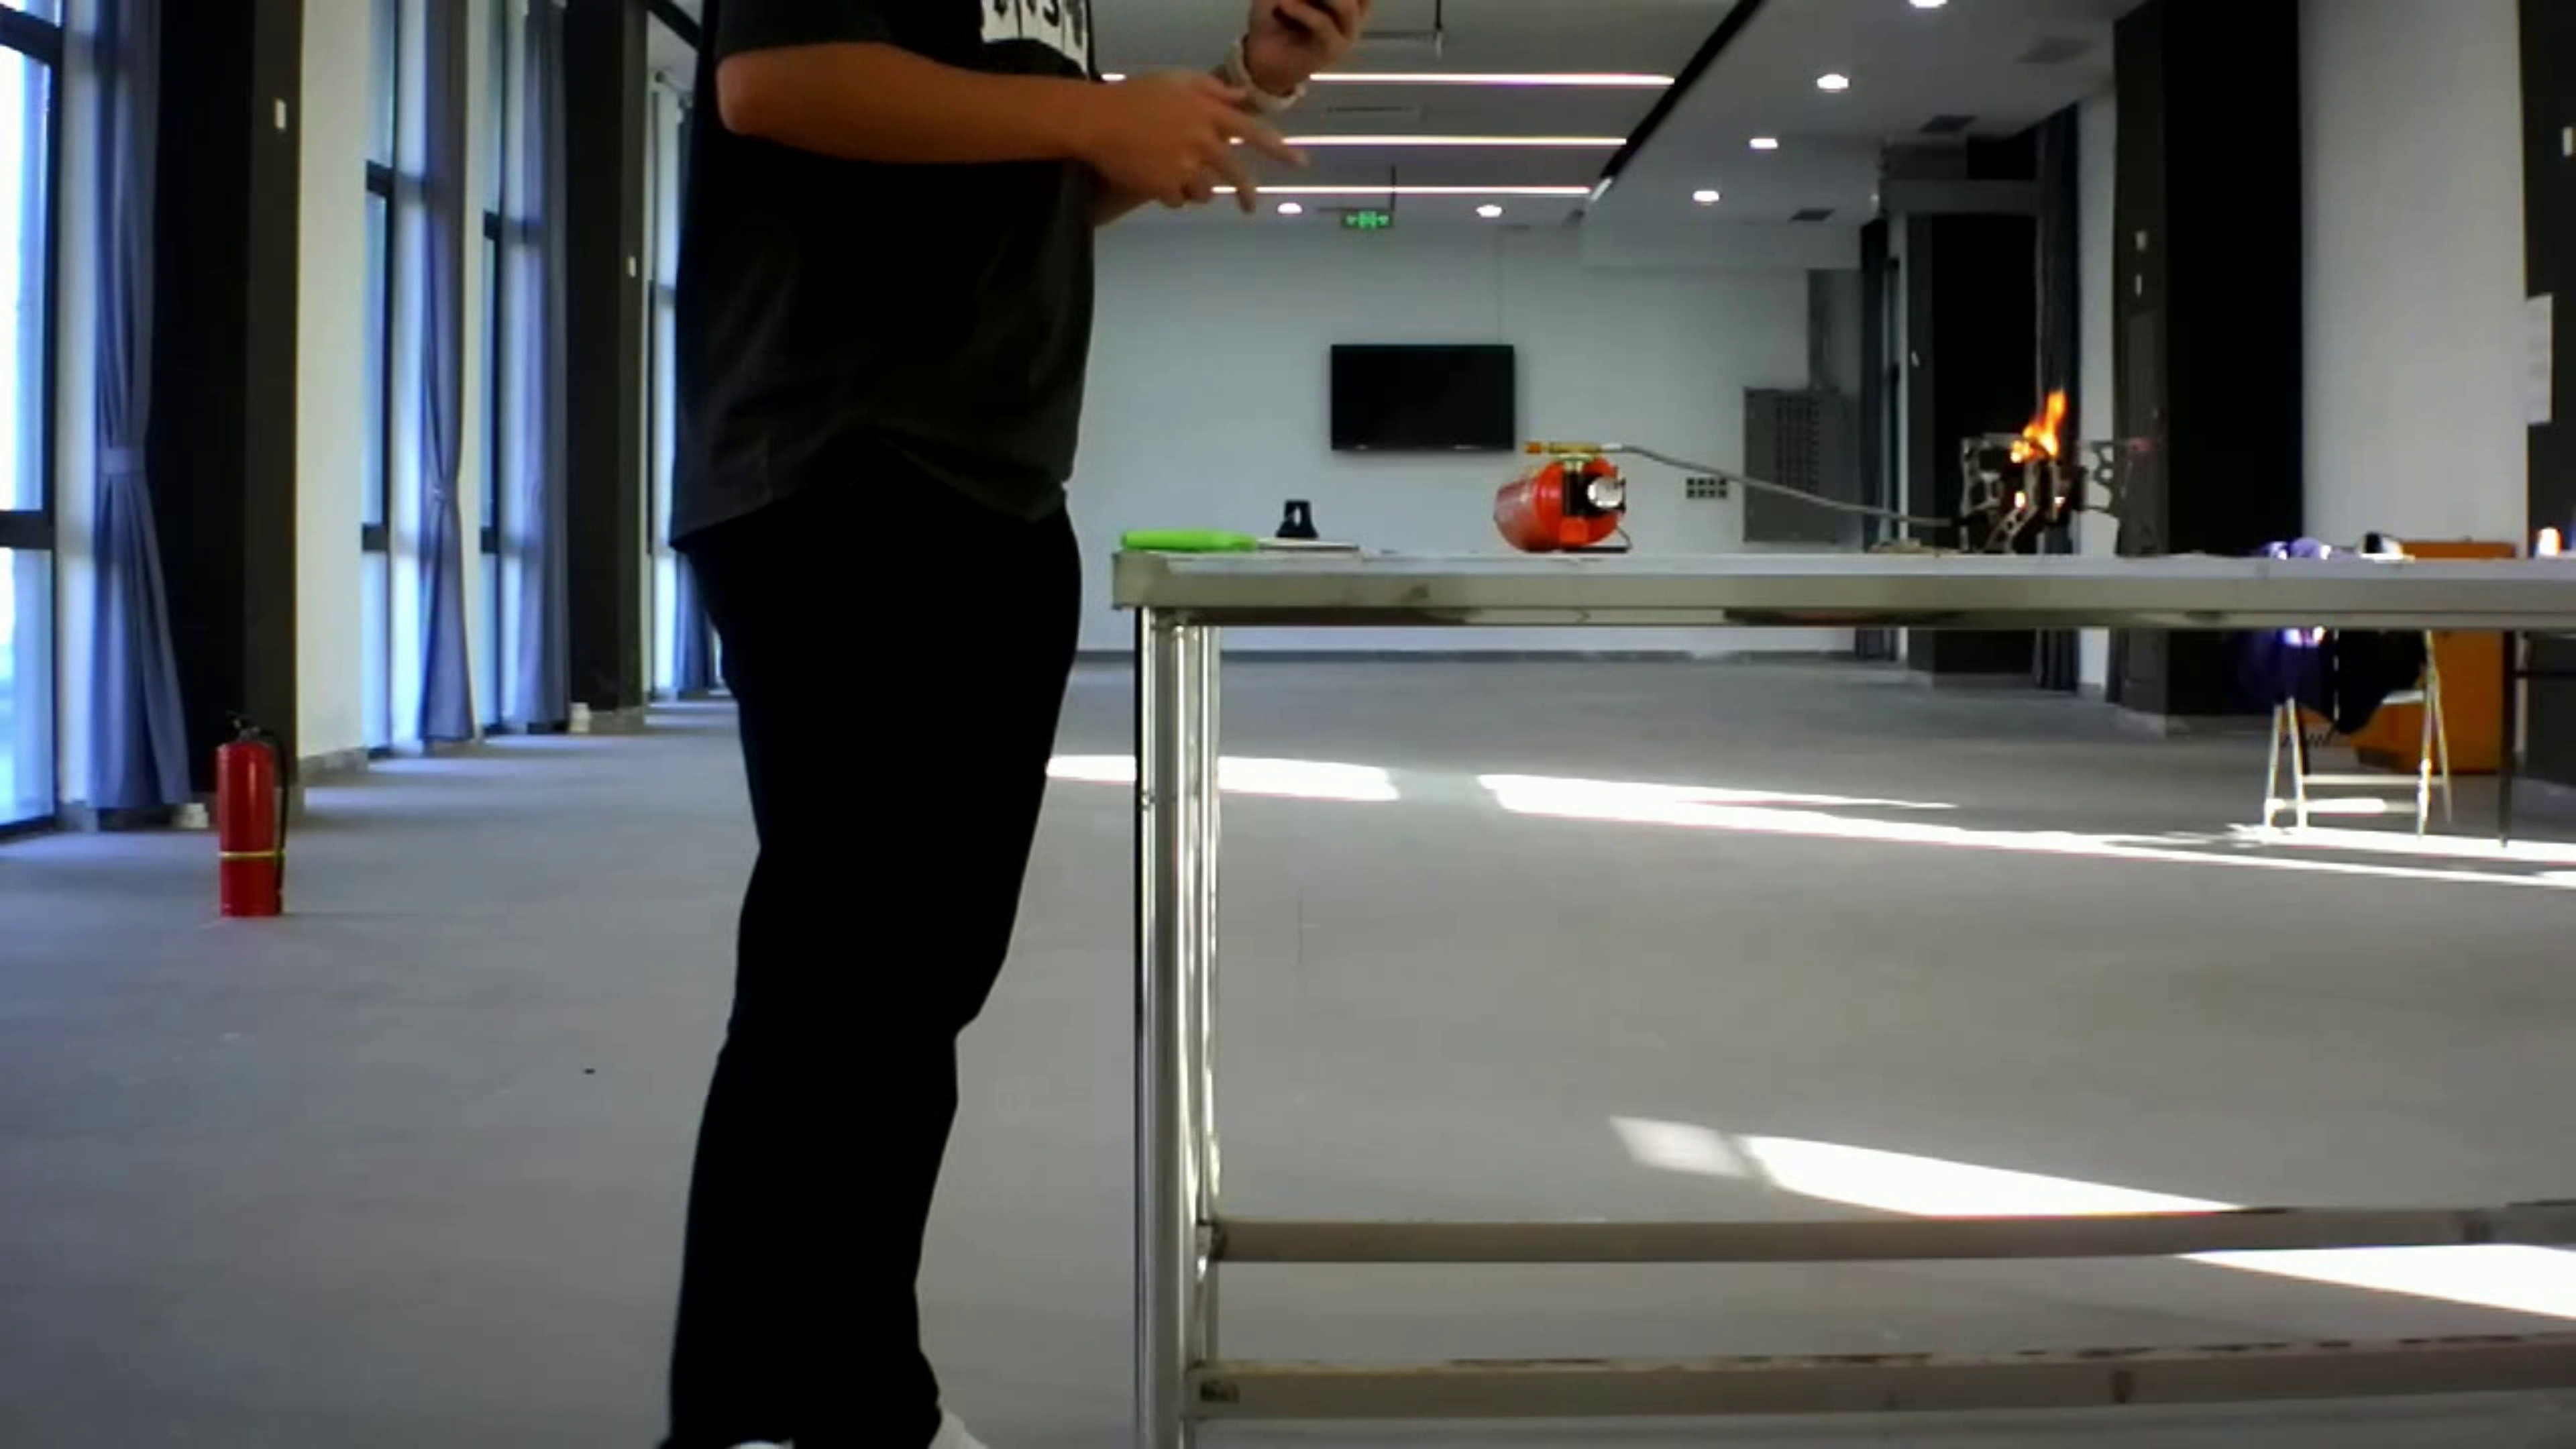Fire: (1985, 370, 2077, 488)
